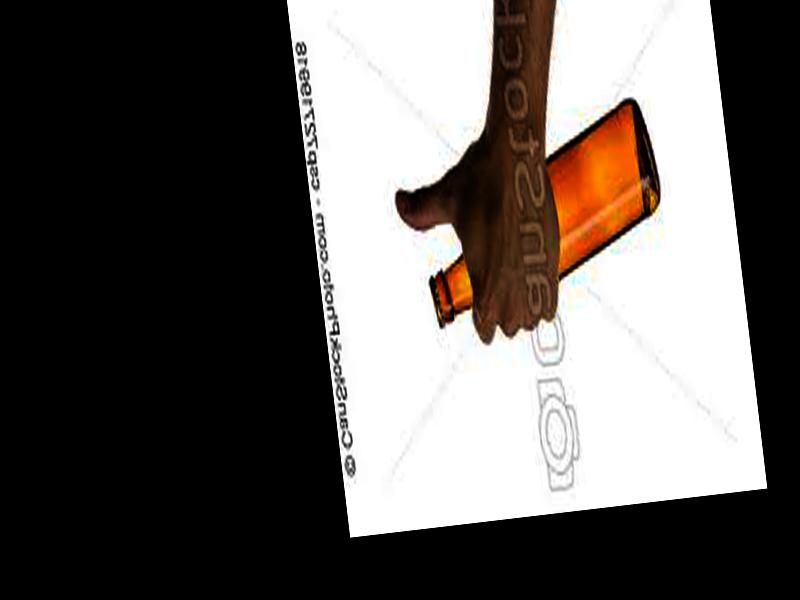Beer: (412, 95, 672, 325)
